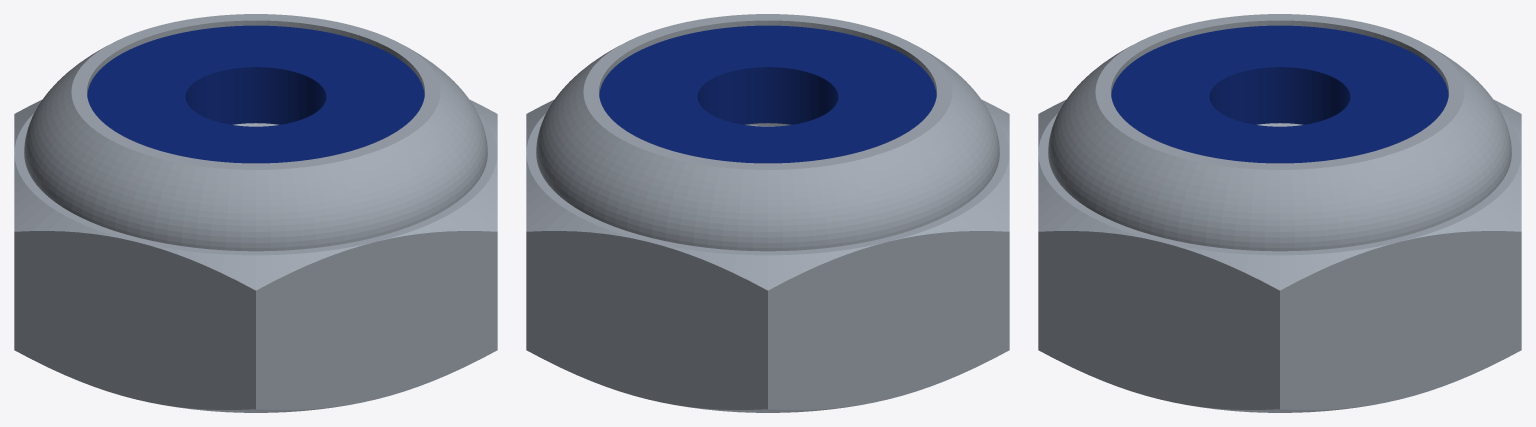
The model's file is model_full.glb.
3 renders of one model, left to right at view 1: azimuth 30°, elevation 25°; view 2: azimuth 150°, elevation 25°; view 3: azimuth 270°, elevation 25°, orthographic.
Parts seen in each view (by area): view 1: steel, nylon_insert; view 2: steel, nylon_insert; view 3: steel, nylon_insert.
Part boxes in pixels (bbox=[...]): steel: bbox=[14, 14, 497, 412]; nylon_insert: bbox=[87, 25, 424, 163]; steel: bbox=[526, 14, 1009, 412]; nylon_insert: bbox=[599, 25, 936, 163]; steel: bbox=[1038, 14, 1521, 412]; nylon_insert: bbox=[1111, 25, 1448, 163].
Bounding box in the file's own units: 0.00289 × 0.00125 × 0.0025.
